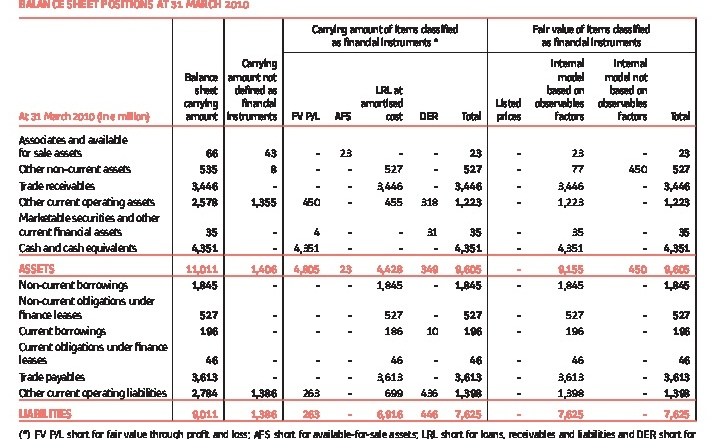table: (0, 0, 714, 439)
